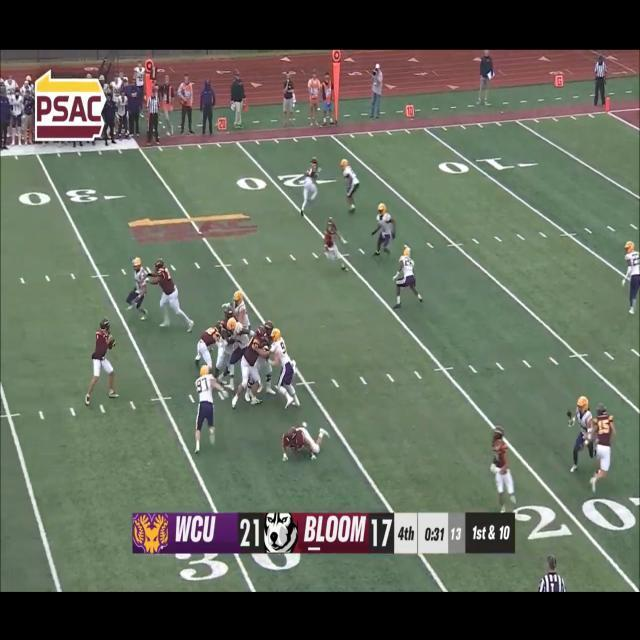football: (105, 332, 118, 350)
